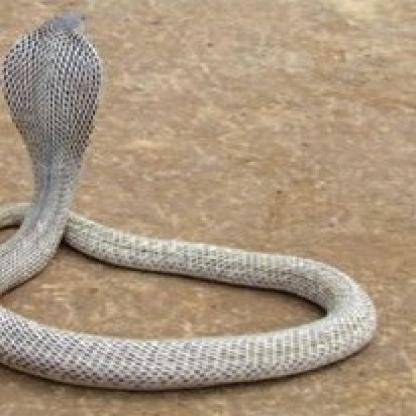Snake: (0, 10, 376, 392)
